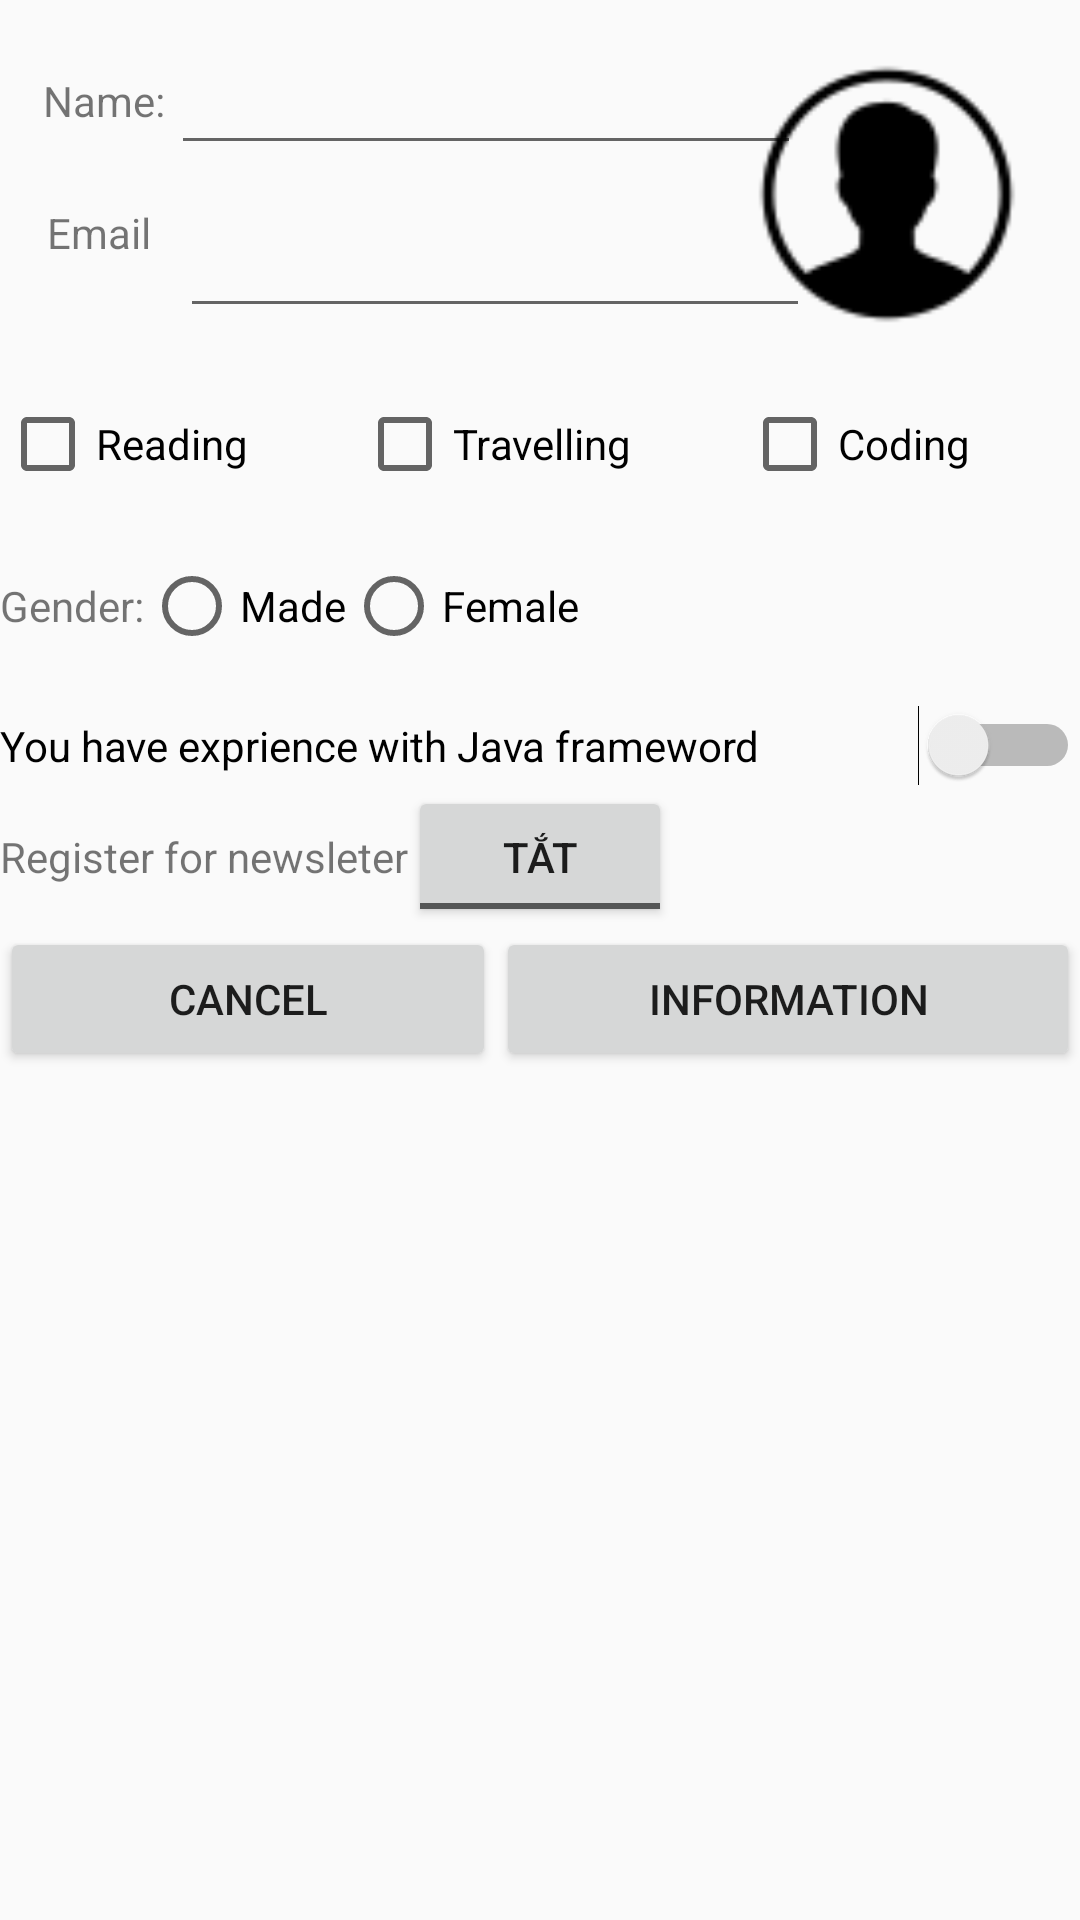

Named icons in this screenshot (1080px×1920px) and their centers, (x=x, y=y):
user: (x=859, y=194)
